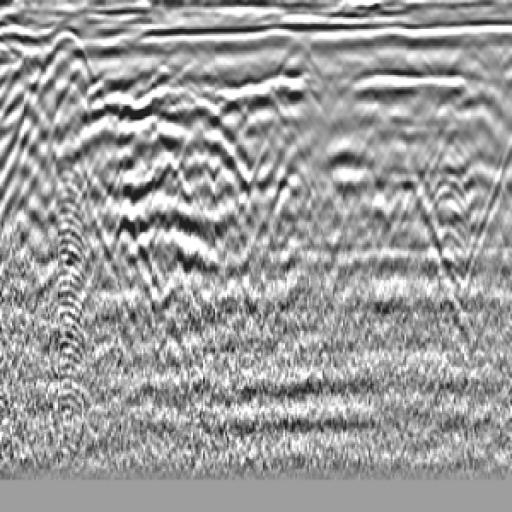metalic: (331, 46, 452, 133)
